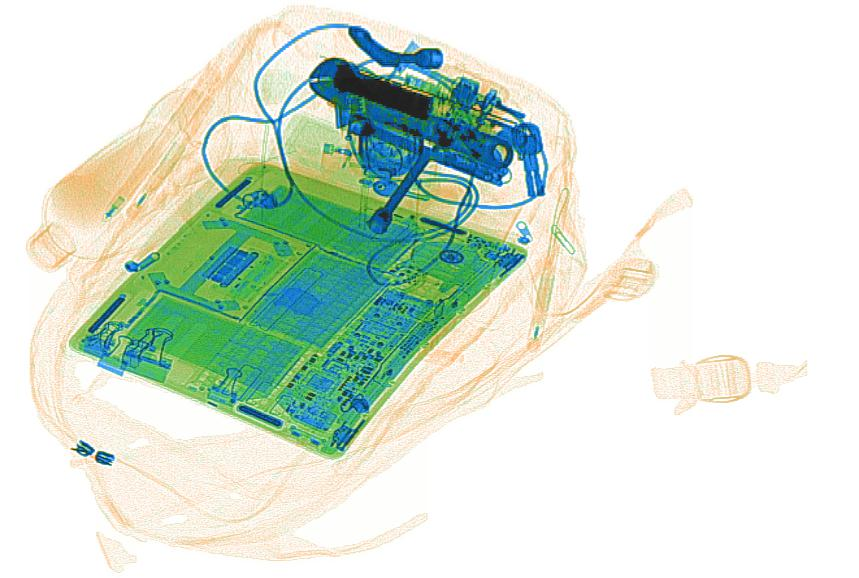lighter: (319, 138, 438, 191)
